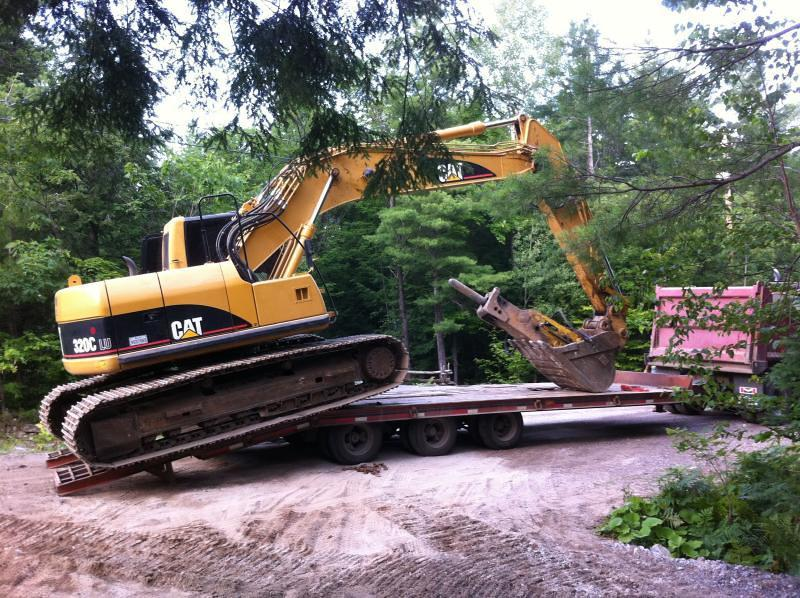EXCAVATORS: (39, 112, 630, 471)
